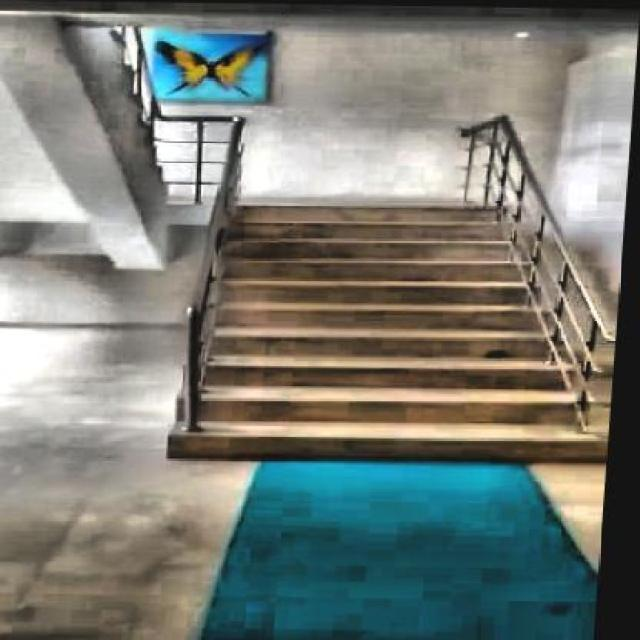stair: (169, 203, 626, 460)
